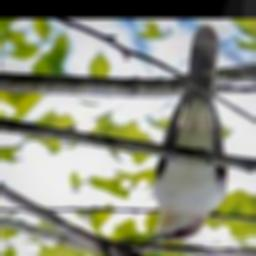Cuckoo: (141, 25, 225, 243)
